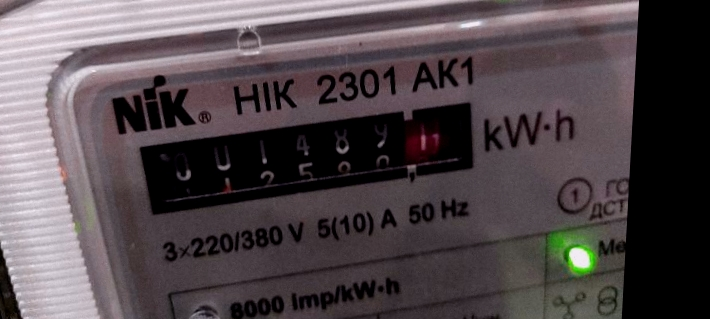0: (208, 136, 235, 173), (169, 148, 195, 184)
1: (412, 115, 433, 154), (252, 134, 274, 166)
4: (290, 126, 314, 158)
8: (331, 120, 354, 157)
9: (370, 116, 392, 149)
screen: (124, 73, 506, 244)
